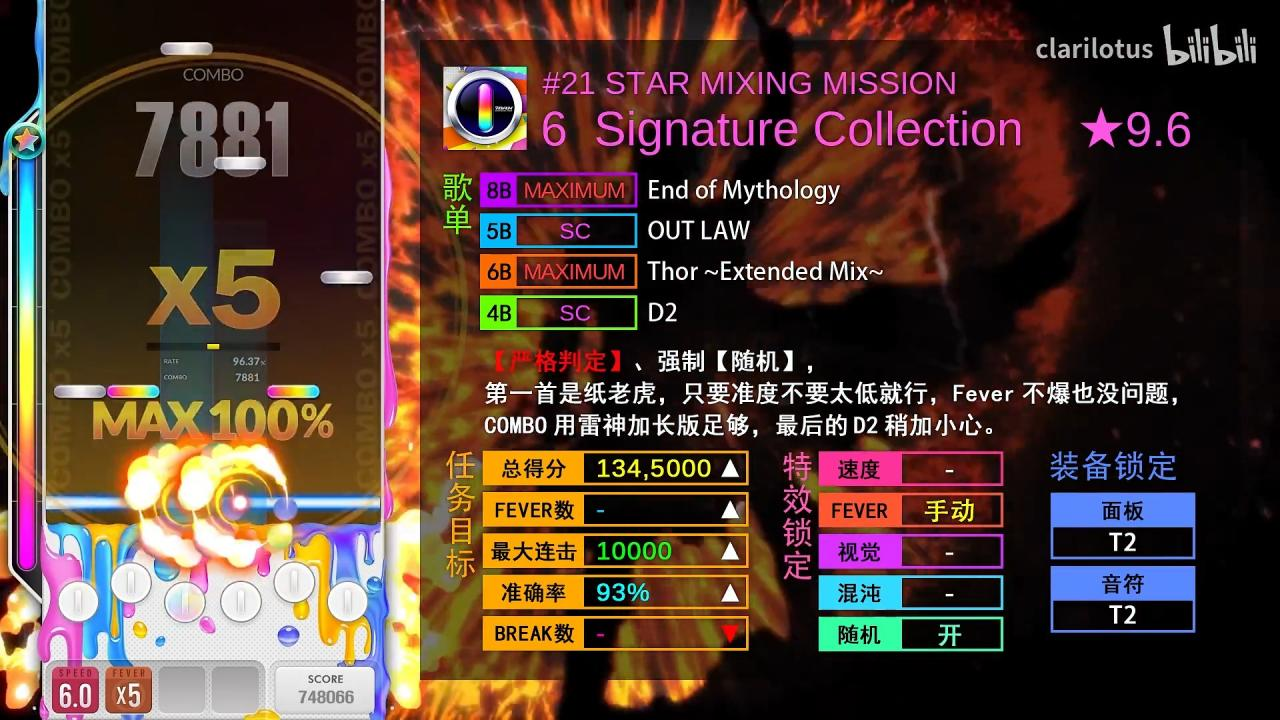note: (53, 384, 106, 400), (107, 384, 160, 399), (268, 384, 320, 399), (213, 156, 267, 170), (161, 42, 213, 56), (321, 270, 373, 284)
